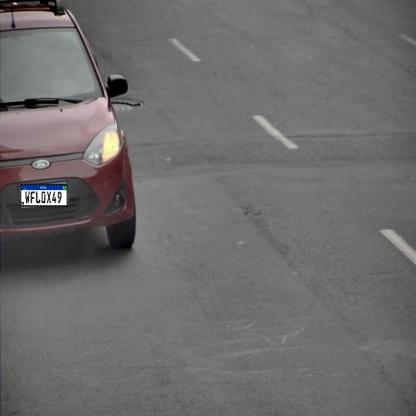PlacaM: (20, 184, 68, 206)
